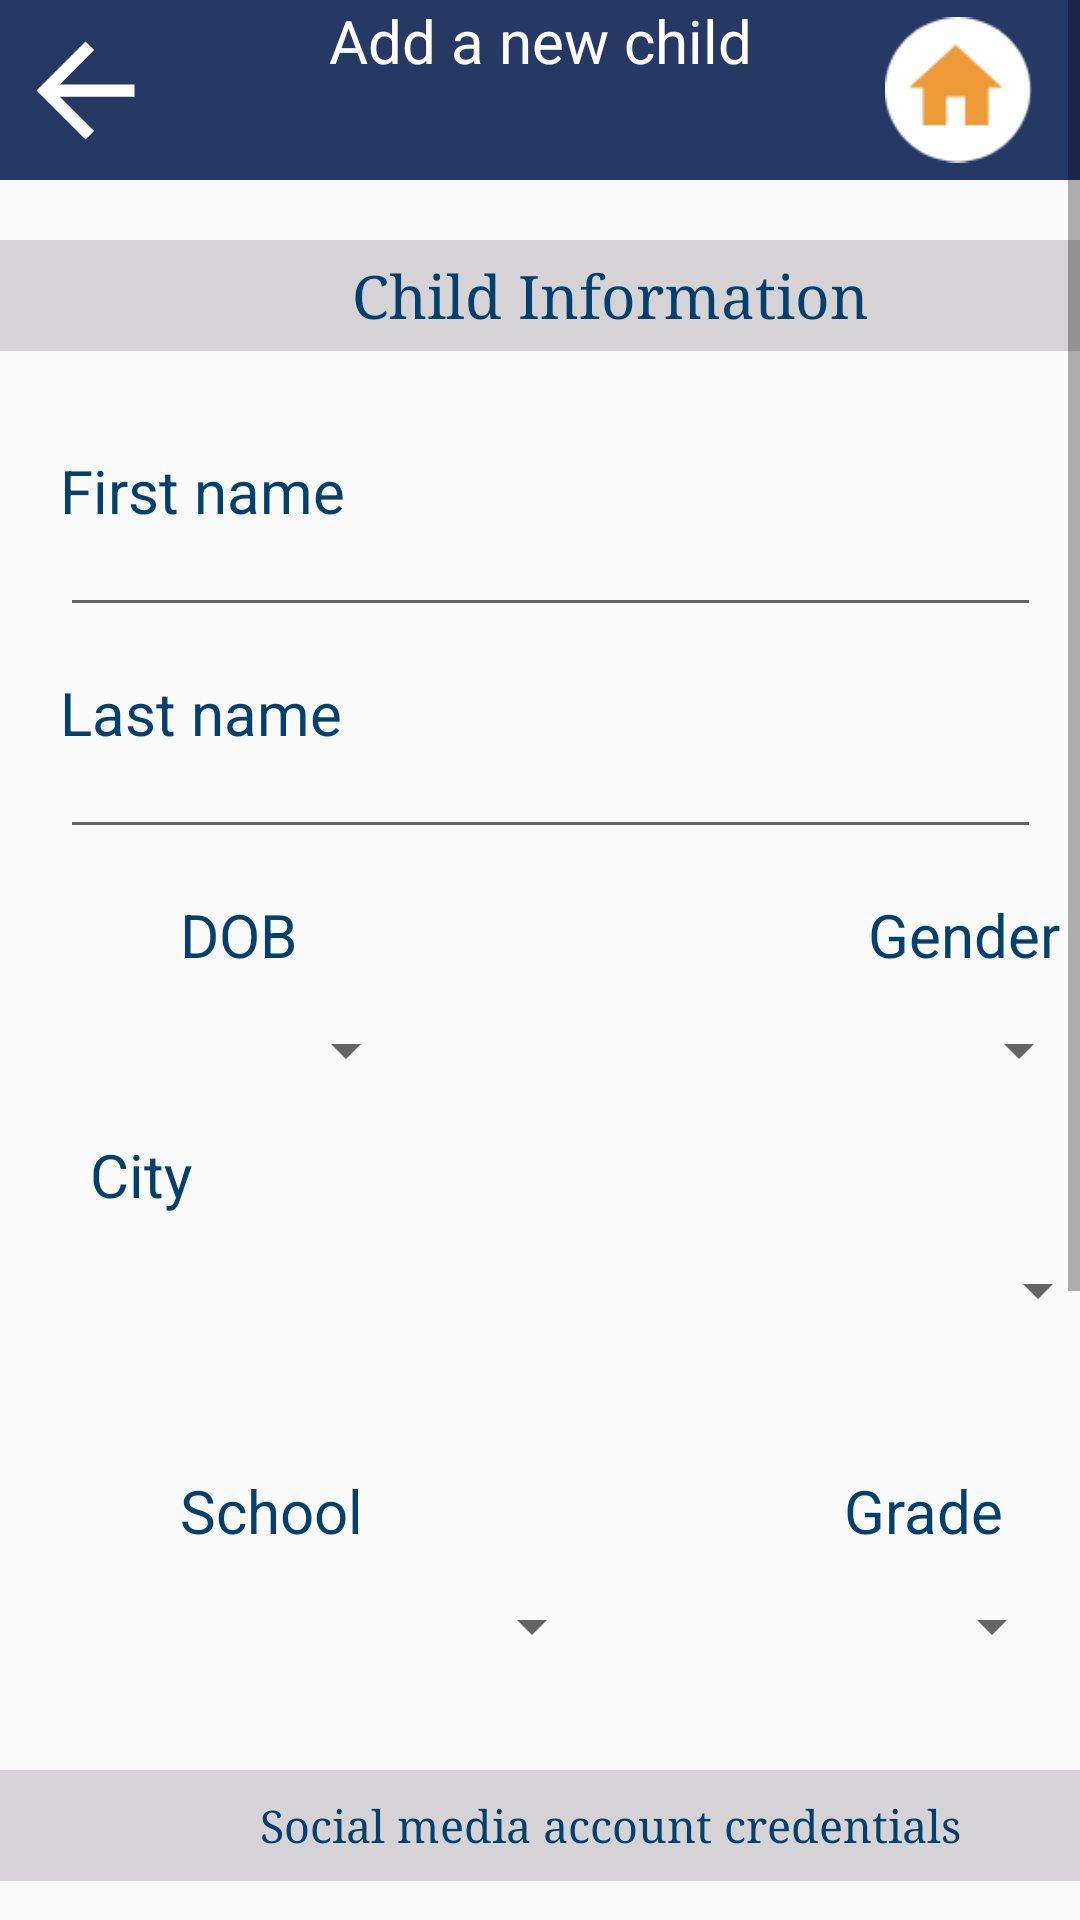

Locate icon controls on the screen. Image size 1080 × 1920, boxes as region(x1, y1, x2, y2).
home: region(885, 17, 1032, 163)
